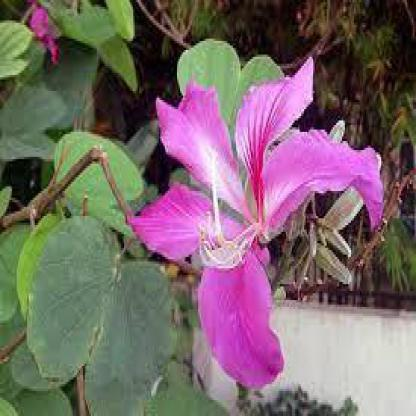Kenanga: (288, 29, 376, 62), (145, 195, 197, 245)
